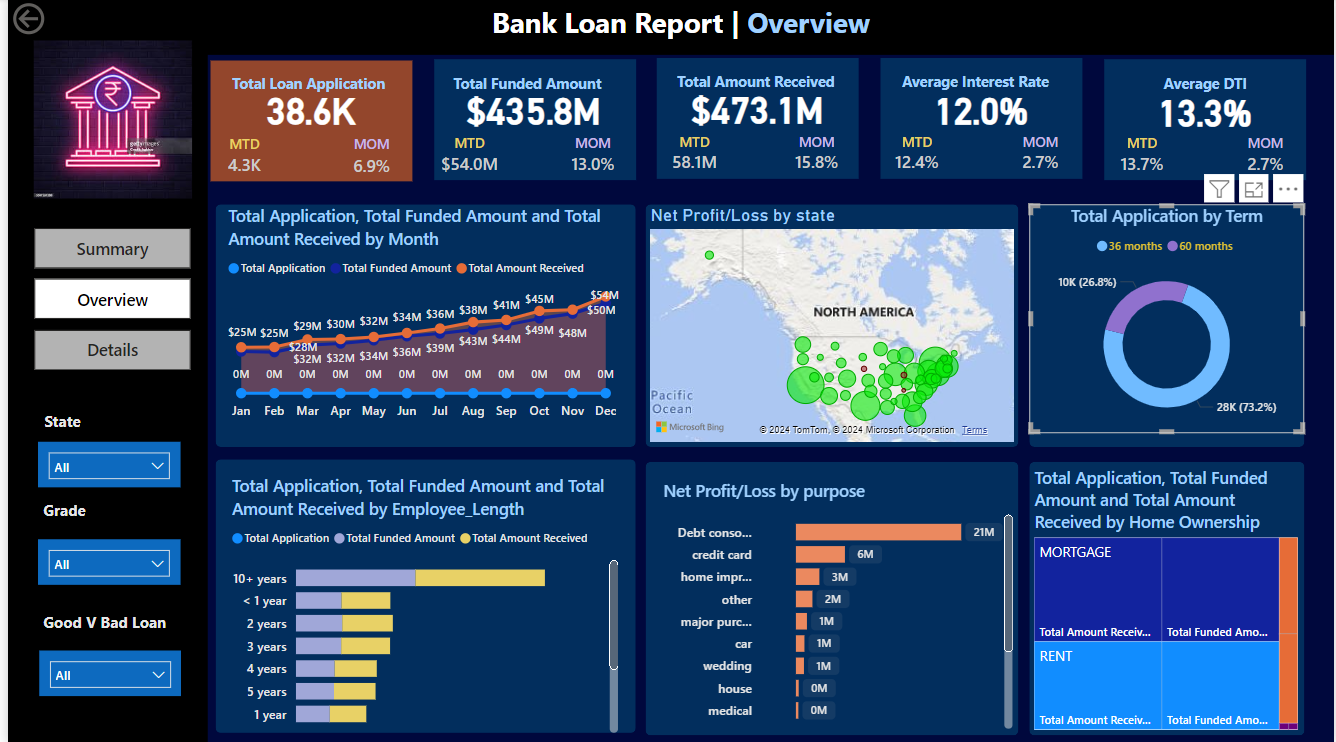

This screenshot's page, from the dashboard's own definition file:
{"tool":"powerbi","page":{"name":"Overview","canvas":[1280,720],"ordinal":1},"visuals":[{"type":"shape","box":[200,198.6,405.7,234.3],"z":0},{"type":"shape","box":[9.6,0,1270.7,54.9],"z":1000},{"type":"shape","box":[0,0,192.9,720],"z":2000},{"type":"textbox","box":[379.1,0,541.2,54.9],"z":3000},{"type":"shape","box":[195.6,59.7,194.9,116.6],"z":4000},{"type":"card","fields":{"Values":["bank_loan_data.Total Application"]},"box":[199.2,82.4,186.8,49.5],"z":5000},{"type":"textbox","box":[211.3,68.1,173.1,50.8],"z":6000},{"type":"card","title":"MTD","fields":{"Values":["bank_loan_data.MTD Loan Applications"]},"box":[196.2,131.3,63.2,45.3],"z":7000},{"type":"card","title":"MOM","fields":{"Values":["bank_loan_data.MOM Loan Applications"]},"box":[317.3,131.9,67.3,44],"z":8000},{"type":"shape","box":[411.1,58.7,194.9,116.6],"z":9000},{"type":"card","fields":{"Values":["bank_loan_data.Total Funded Amount"]},"box":[413.5,82.4,186.8,49.5],"z":10000},{"type":"textbox","box":[424.6,67.1,173.1,50.8],"z":11000},{"type":"card","title":"MTD","fields":{"Values":["bank_loan_data.MTD Funded Amount"]},"box":[409.4,130.5,72.8,45.3],"z":12000},{"type":"card","title":"MOM","fields":{"Values":["bank_loan_data.MOM Funded Amount"]},"box":[530.2,130.5,67.3,44],"z":13000},{"type":"shape","box":[626.6,57.7,194.9,116.6],"z":14000},{"type":"card","fields":{"Values":["bank_loan_data.Total Amount Received"]},"box":[630.1,81.4,186.8,49.5],"z":15000},{"type":"textbox","box":[641.2,66.2,173.1,50.8],"z":16000},{"type":"card","title":"MTD","fields":{"Values":["bank_loan_data.MTD Total Amount Received"]},"box":[626,129.5,72.8,45.3],"z":17000},{"type":"card","title":"MOM","fields":{"Values":["bank_loan_data.MOM Total Amount Received"]},"box":[747.3,129.1,67.3,45.3],"z":18000},{"type":"shape","box":[842.1,57.9,194.9,116.6],"z":19000},{"type":"card","fields":{"Values":["bank_loan_data.Avg Interest Rate"]},"box":[845.6,81.5,186.8,49.5],"z":20000},{"type":"textbox","box":[857.2,65.9,163.5,50.8],"z":21000},{"type":"card","title":"MTD","fields":{"Values":["bank_loan_data.MTD Avg Interest Rate"]},"box":[841.5,129.6,72.8,45.3],"z":22000},{"type":"card","title":"MOM","fields":{"Values":["bank_loan_data.MOM Avg Interest Rate"]},"box":[963,129.1,67.3,45.3],"z":23000},{"type":"shape","box":[1057.6,59.1,194.9,116.6],"z":24000},{"type":"card","fields":{"Values":["bank_loan_data.Avg DTI"]},"box":[1062.2,82.7,186.8,49.5],"z":25000},{"type":"textbox","box":[1073.8,67.1,163.5,50.8],"z":26000},{"type":"card","title":"MTD","fields":{"Values":["bank_loan_data.MTD Avg DTI"]},"box":[1058.1,130.8,72.8,45.3],"z":27000},{"type":"card","title":"MOM","fields":{"Values":["bank_loan_data.MOM Avg DTI"]},"box":[1179.6,130.3,67.3,45.3],"z":28000},{"type":"shape","box":[200,445.7,405.7,264.3],"z":29000},{"type":"actionButton","box":[0,0,100,40],"z":30000},{"type":"slicer","fields":{"Values":["bank_loan_data.address_state"]},"box":[29.5,428.4,137.4,44],"z":31000},{"type":"slicer","fields":{"Values":["bank_loan_data.grade"]},"box":[29.5,522.2,137.4,44],"z":32000},{"type":"textbox","box":[29.5,479.4,137.4,35.7],"z":33000},{"type":"slicer","fields":{"Values":["bank_loan_data.Good vs Bad Loan"]},"box":[30,630,137.1,44.3],"z":34000},{"type":"textbox","box":[28.6,587.1,137.1,35.7],"z":35000},{"type":"areaChart","fields":{"Y":["bank_loan_data.Total Application","bank_loan_data.Total Funded Amount","bank_loan_data.Total Amount Received"],"Category":["Date Table.Month"]},"box":[207.4,199.2,387.4,217],"z":36000},{"type":"shape","box":[615.7,198.6,360,234.3],"z":37000},{"type":"map","fields":{"Category":["bank_loan_data.address_state"],"Size":["bank_loan_data.Net Profit/Loss"]},"box":[615.7,198.6,360,234.3],"z":38000},{"type":"shape","box":[985.7,198.6,265.7,234.3],"z":39000},{"type":"donutChart","fields":{"Y":["bank_loan_data.Total Application"],"Category":["bank_loan_data.term"]},"box":[985.7,198.6,265.7,221.4],"z":40000},{"type":"barChart","fields":{"Y":["bank_loan_data.Total Application","bank_loan_data.Total Funded Amount","bank_loan_data.Total Amount Received"],"Category":["bank_loan_data.emp_length"]},"box":[211.4,460,382.9,254.3],"z":41000},{"type":"shape","box":[615.7,447.1,360,264.3],"z":42000},{"type":"barChart","fields":{"Category":["bank_loan_data.purpose"],"Y":["bank_loan_data.Net Profit/Loss"]},"box":[627.3,464.5,347.5,246.1],"z":43000},{"type":"shape","box":[985.7,447.1,265.7,264.3],"z":44000},{"type":"treemap","fields":{"Values":["bank_loan_data.Total Application","bank_loan_data.Total Funded Amount","bank_loan_data.Total Amount Received"],"Group":["bank_loan_data.home_ownership"]},"box":[985.7,451.4,264.3,260],"z":45000},{"type":"image","box":[10,35.7,182.9,162.9],"z":46000},{"type":"textbox","box":[30,392.9,137.1,35.7],"z":47000},{"type":"pageNavigator","box":[25.7,221.4,151.4,138.6],"z":48000}]}

Visuals, with their boxes in screenshot pixels (x1, y1, x2, y2), scaled from the page's 1280x720 canvas onto the 1336x742 screenshot:
shape: box(209, 205, 632, 446)
shape: box(10, 0, 1335, 57)
shape: box(0, 0, 201, 741)
textbox: box(396, 0, 961, 57)
shape: box(204, 62, 408, 182)
card - bank_loan_data.Total Application: box(208, 85, 403, 136)
textbox: box(221, 70, 401, 123)
"MTD" card: box(205, 135, 271, 182)
"MOM" card: box(331, 136, 401, 181)
shape: box(429, 60, 633, 181)
card - bank_loan_data.Total Funded Amount: box(432, 85, 627, 136)
textbox: box(443, 69, 624, 122)
"MTD" card: box(427, 134, 503, 181)
"MOM" card: box(553, 134, 624, 180)
shape: box(654, 59, 857, 180)
card - bank_loan_data.Total Amount Received: box(658, 84, 853, 135)
textbox: box(669, 68, 850, 121)
"MTD" card: box(653, 133, 729, 180)
"MOM" card: box(780, 133, 850, 180)
shape: box(879, 60, 1082, 180)
card - bank_loan_data.Avg Interest Rate: box(883, 84, 1078, 135)
textbox: box(895, 68, 1065, 120)
"MTD" card: box(878, 134, 954, 180)
"MOM" card: box(1005, 133, 1075, 180)
shape: box(1104, 61, 1307, 181)
card - bank_loan_data.Avg DTI: box(1109, 85, 1304, 136)
textbox: box(1121, 69, 1291, 122)
"MTD" card: box(1104, 135, 1180, 181)
"MOM" card: box(1231, 134, 1301, 181)
shape: box(209, 459, 632, 732)
actionButton: box(0, 0, 104, 41)
slicer - bank_loan_data.address_state: box(31, 441, 174, 487)
slicer - bank_loan_data.grade: box(31, 538, 174, 584)
textbox: box(31, 494, 174, 531)
slicer - bank_loan_data.Good vs Bad Loan: box(31, 649, 174, 695)
textbox: box(30, 605, 173, 642)
areaChart - bank_loan_data.Total Application x bank_loan_data.Total Funded Amount: box(216, 205, 621, 429)
shape: box(643, 205, 1018, 446)
map - bank_loan_data.address_state x bank_loan_data.Net Profit/Loss: box(643, 205, 1018, 446)
shape: box(1029, 205, 1306, 446)
donutChart - bank_loan_data.Total Application x bank_loan_data.term: box(1029, 205, 1306, 433)
barChart - bank_loan_data.Total Application x bank_loan_data.Total Funded Amount: box(221, 474, 620, 736)
shape: box(643, 461, 1018, 733)
barChart - bank_loan_data.purpose x bank_loan_data.Net Profit/Loss: box(655, 479, 1017, 732)
shape: box(1029, 461, 1306, 733)
treemap - bank_loan_data.Total Application x bank_loan_data.Total Funded Amount: box(1029, 465, 1305, 733)
image: box(10, 37, 201, 205)
textbox: box(31, 405, 174, 442)
pageNavigator: box(27, 228, 185, 371)
